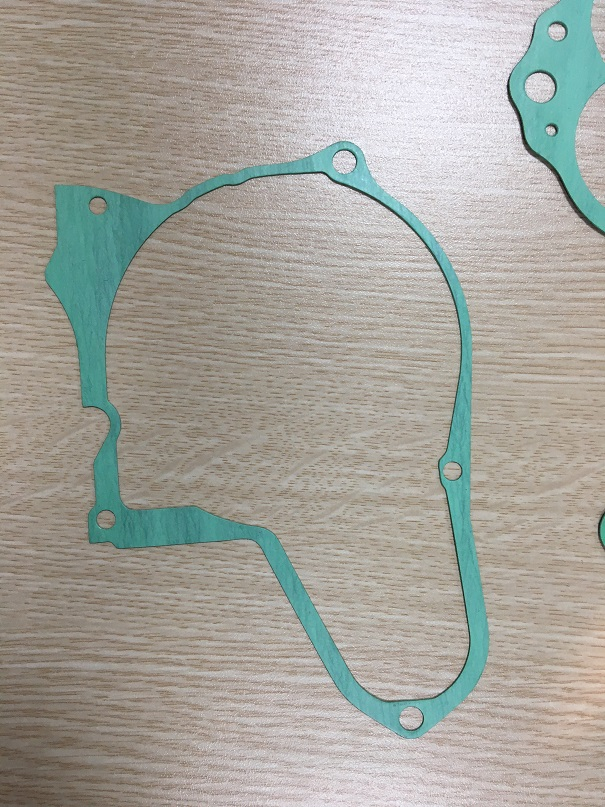type1: (23, 134, 499, 748)
